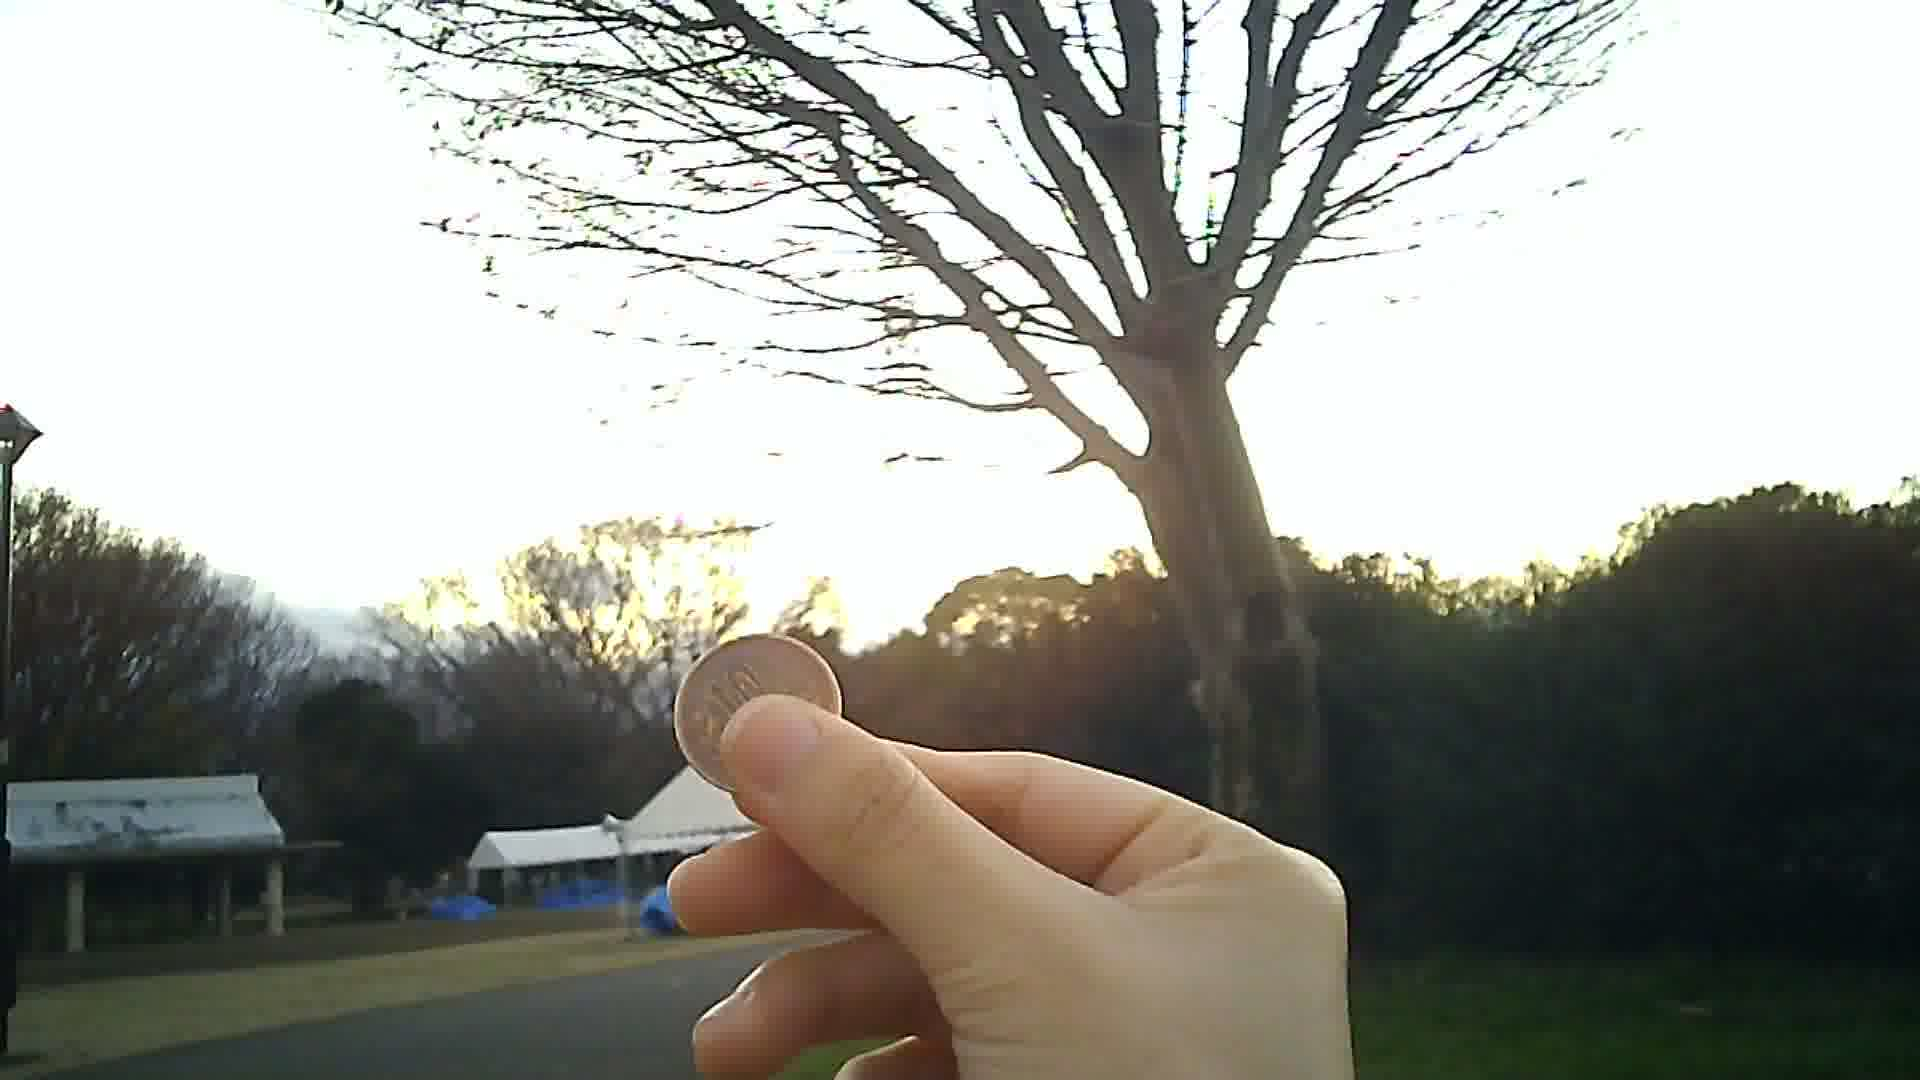10 Yen: (670, 624, 841, 796)
